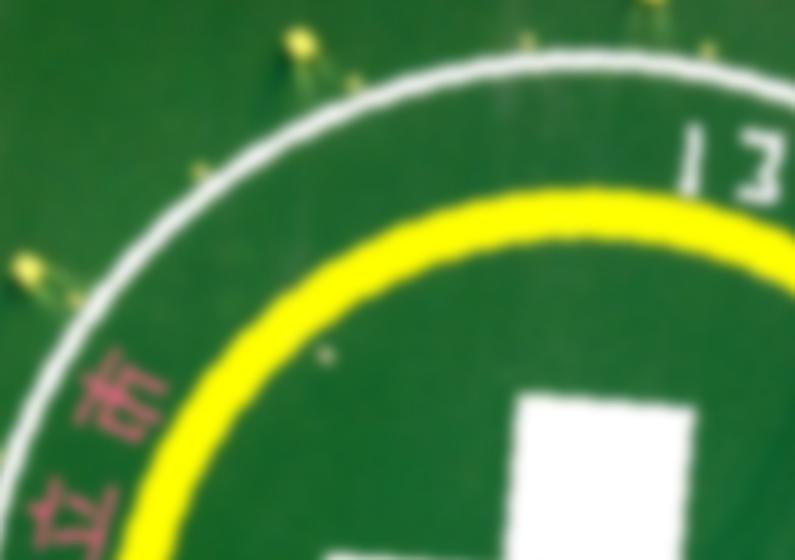Apron: (107, 169, 795, 560)
